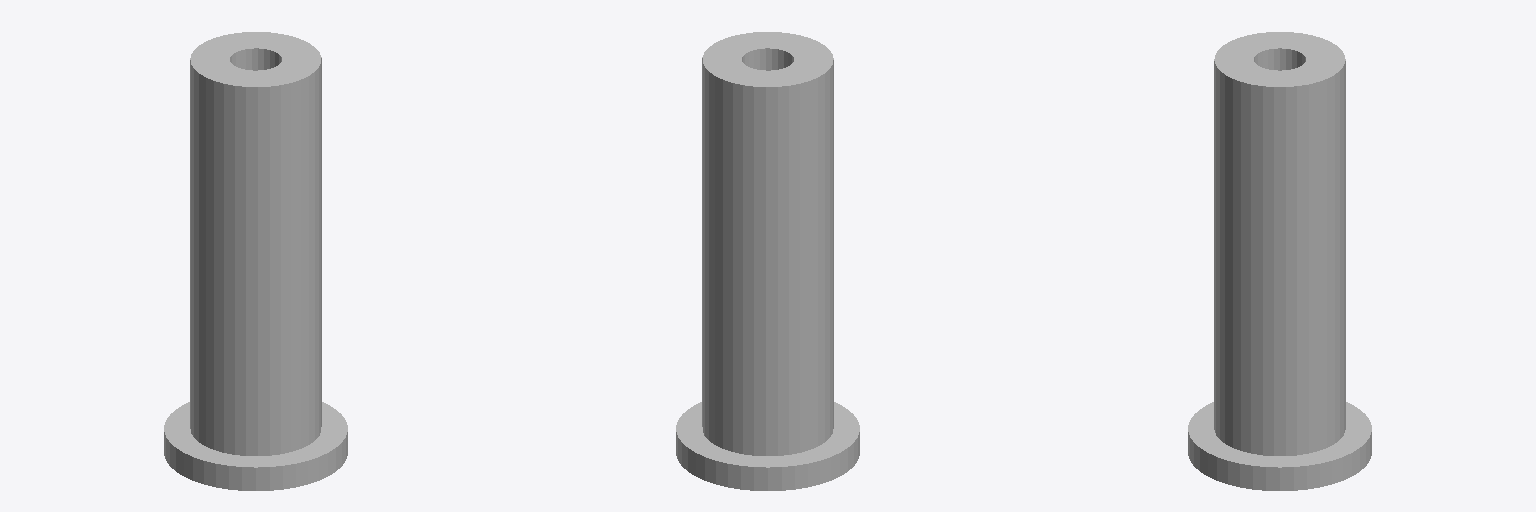
File: bearingShaft.obj
3 renders of one model, left to right at view 1: azimuth 30°, elevation 25°; view 2: azimuth 150°, elevation 25°; view 3: azimuth 270°, elevation 25°, orthographic.
Size of the model in its own units: 7 by 16.5 by 6.98.